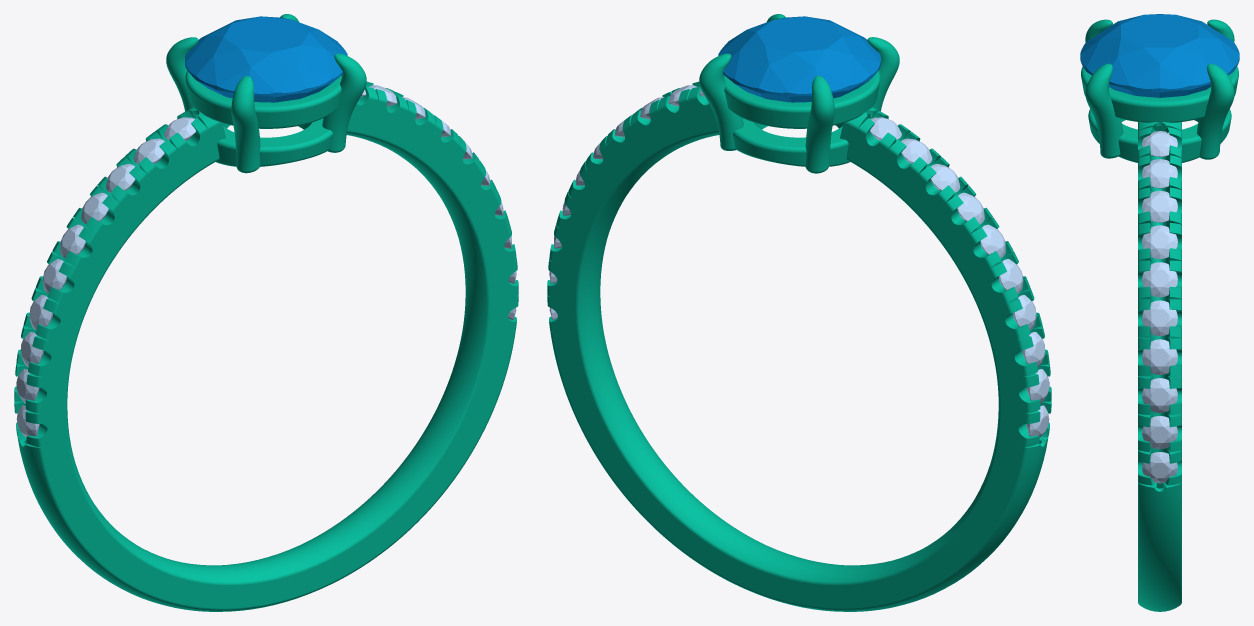
3 renders of one model, left to right at view 1: azimuth 30°, elevation 25°; view 2: azimuth 150°, elevation 25°; view 3: azimuth 270°, elevation 25°, orthographic. The views are drawn at different scales.
Parts seen in each view (by area): view 1: Black engagement ring(render).3dm, Diamond_Round, Bezel (×2); view 2: Black engagement ring(render).3dm, Diamond_Round, Bezel (×2); view 3: Black engagement ring(render).3dm, Diamond_Round, GemOnCrv (×10), Bezel (×2).
Part boxes in pixels (x1,y1,x2,y2): Black engagement ring(render).3dm: (14, 14, 518, 611); Diamond_Round: (185, 16, 347, 102); Bezel (×2): (185, 70, 341, 166); Black engagement ring(render).3dm: (547, 14, 1051, 611); Diamond_Round: (718, 16, 880, 102); Bezel (×2): (724, 70, 880, 166); Black engagement ring(render).3dm: (1085, 19, 1234, 611); Diamond_Round: (1080, 14, 1239, 97); GemOnCrv (×10): (1142, 131, 1177, 483); Bezel (×2): (1081, 66, 1238, 162).
Size of the model in its own units: 2.64 by 2.91 by 0.7581.
